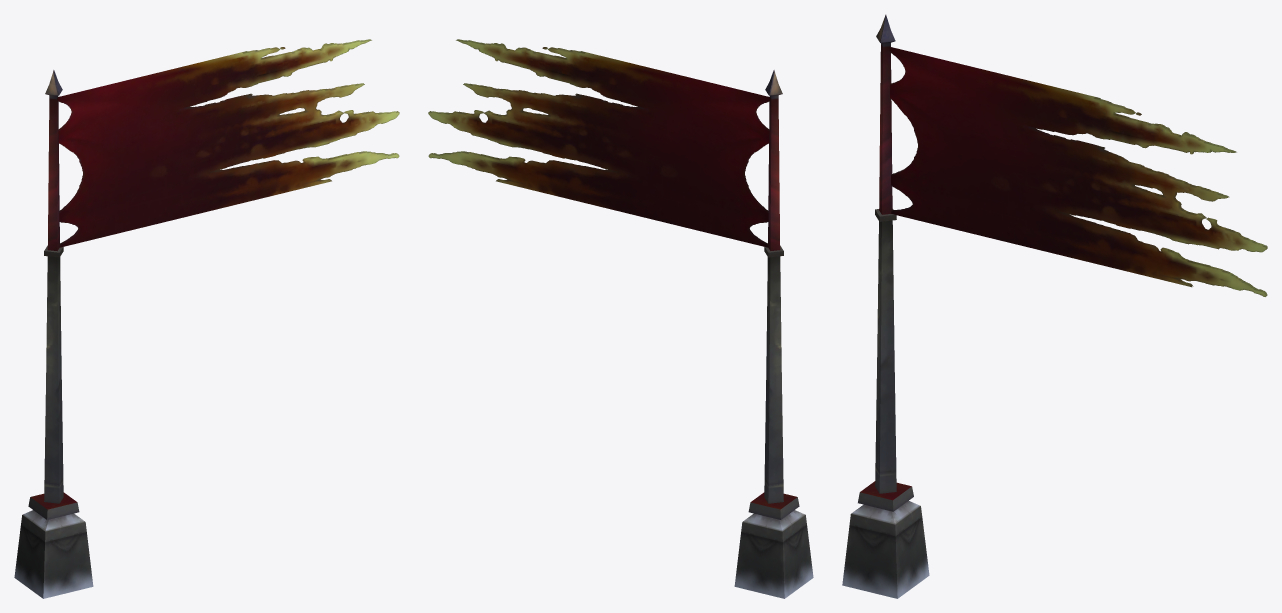
The model's file is cj_xinshou_qizi01_55_28_6791out.fbx.
The picture shows the model from 3 angles, left to right: view 1: azimuth 30°, elevation 25°; view 2: azimuth 150°, elevation 25°; view 3: azimuth 330°, elevation 25°; orthographic projection. The views are drawn at different scales.
Visible parts, largest first — view 1: cj_xinshou_qizi01; view 2: cj_xinshou_qizi01; view 3: cj_xinshou_qizi01.
Part boxes in pixels (x1,y1,x2,y2): cj_xinshou_qizi01: [14, 39, 399, 598]; cj_xinshou_qizi01: [428, 39, 813, 598]; cj_xinshou_qizi01: [842, 14, 1267, 598].
Size of the model in its own units: 3.38 by 4.47 by 0.457.
